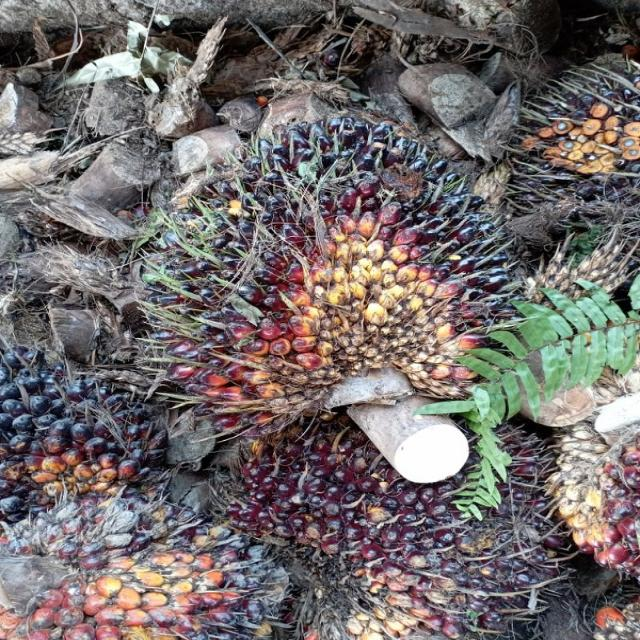fraksi 00: (0, 352, 149, 519)
fraksi 1: (205, 389, 556, 640), (0, 499, 273, 637)
